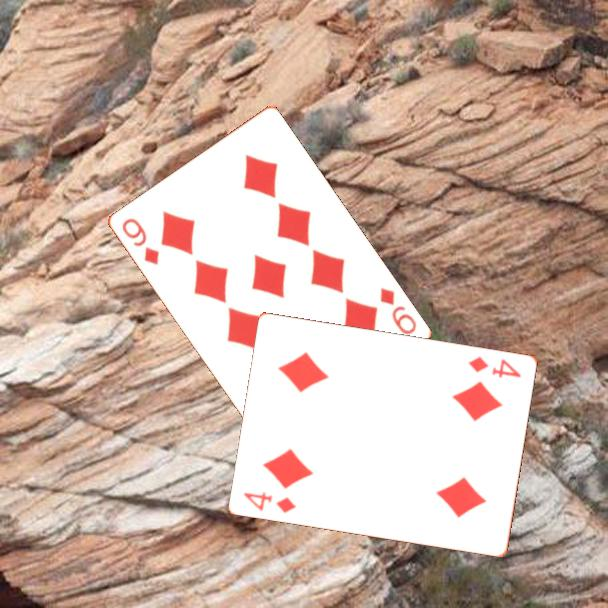d04: (465, 353, 524, 380), (240, 488, 299, 515)
d09: (118, 214, 162, 268), (376, 284, 419, 338)
